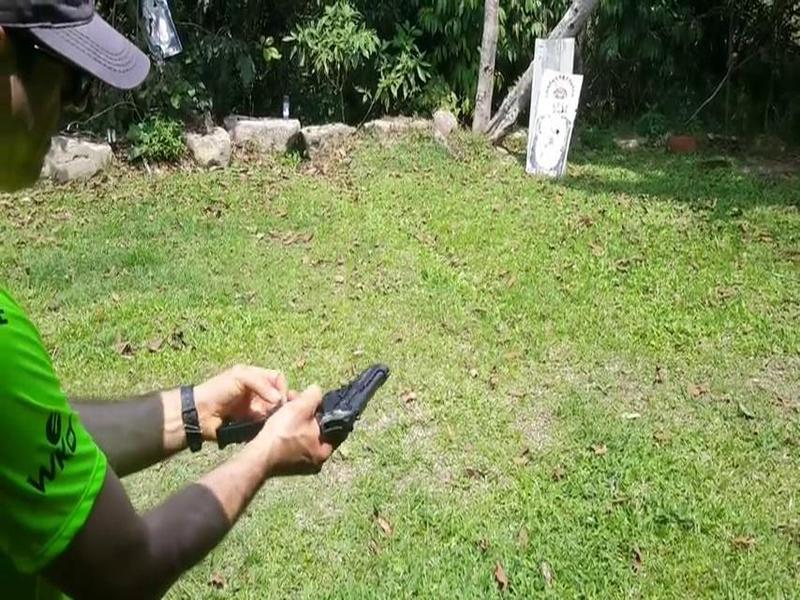Pistola: (287, 352, 399, 463)
